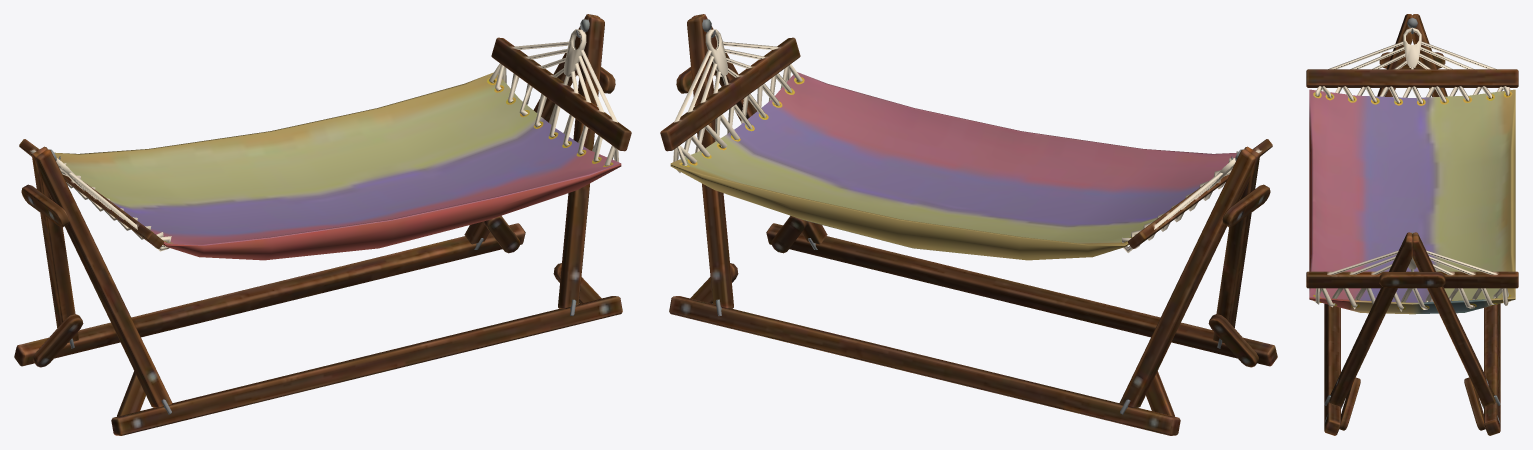
The model's file is hammock.glb.
3 views of the same model, side by side, from view 1: azimuth 30°, elevation 25°; view 2: azimuth 150°, elevation 25°; view 3: azimuth 270°, elevation 25° (orthographic). The views are drawn at different scales.
Bounding box in the file's own units: 19.82 × 8.63 × 7.8.
3 materials, 3 textured.
